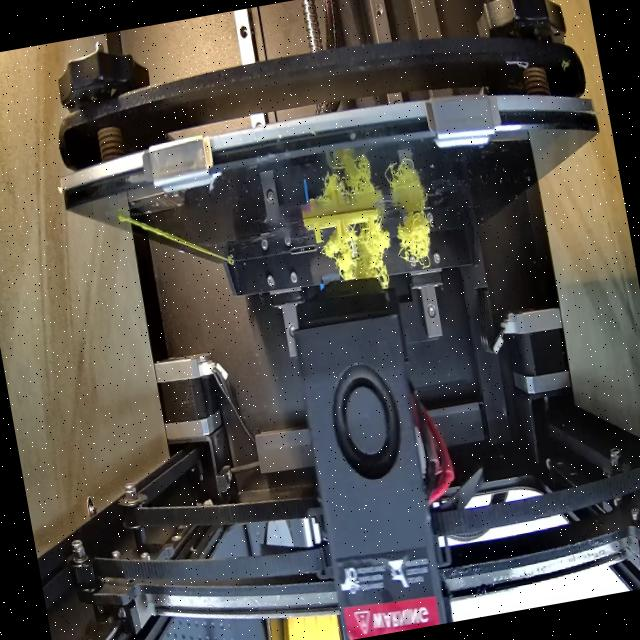spaghetti: (322, 221, 398, 296), (390, 204, 440, 273)
